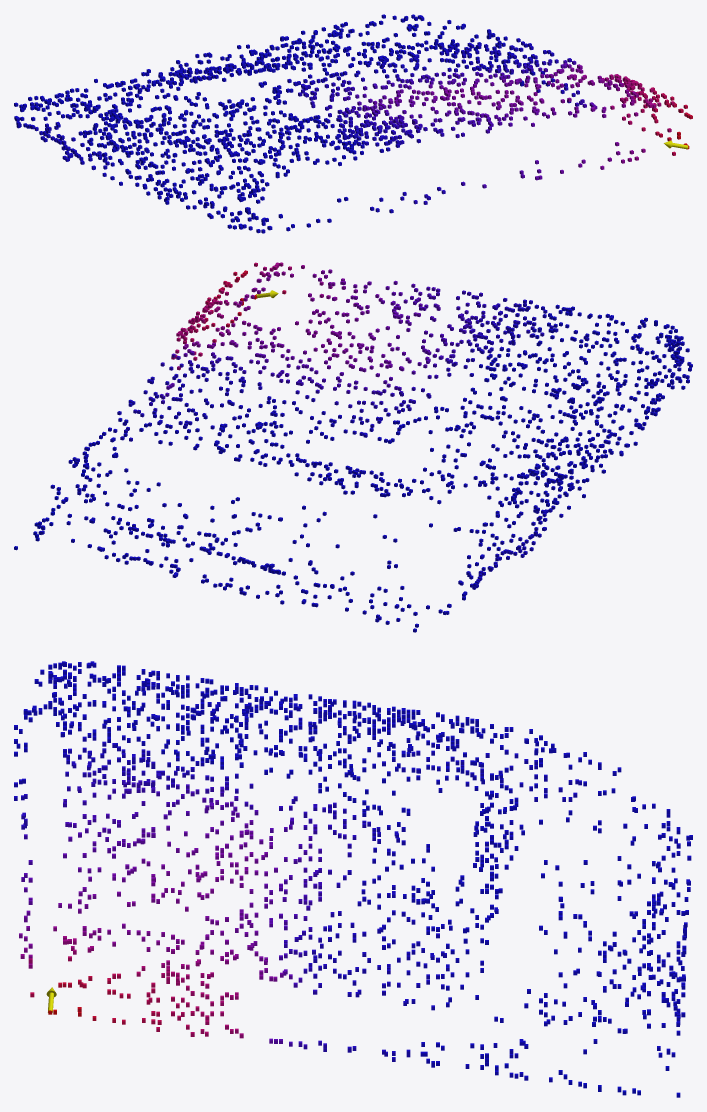
File: heatmap_force.glb
The picture shows the model from 3 angles, top to bottom: view 1: azimuth 30°, elevation 25°; view 2: azimuth 150°, elevation 25°; view 3: azimuth 270°, elevation 25°; orthographic projection. The views are drawn at different scales.
Visible parts, largest first — view 1: world; view 2: world; view 3: world.
Boxes of the visible parts, x1,y1,x2,y2 form: world: [14, 14, 692, 233]; world: [14, 262, 692, 632]; world: [14, 661, 692, 1097].
Size of the model in its own units: 0.5319 by 0.1619 by 0.5405.
